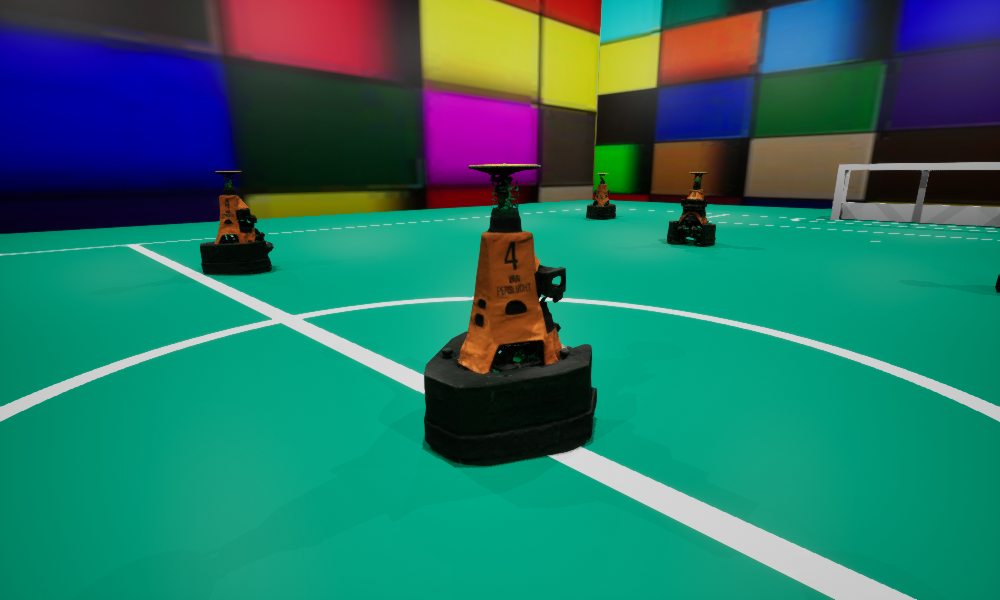o: (424, 163, 596, 465), (200, 171, 273, 274), (667, 172, 715, 245), (586, 173, 615, 219), (995, 274, 999, 292)
